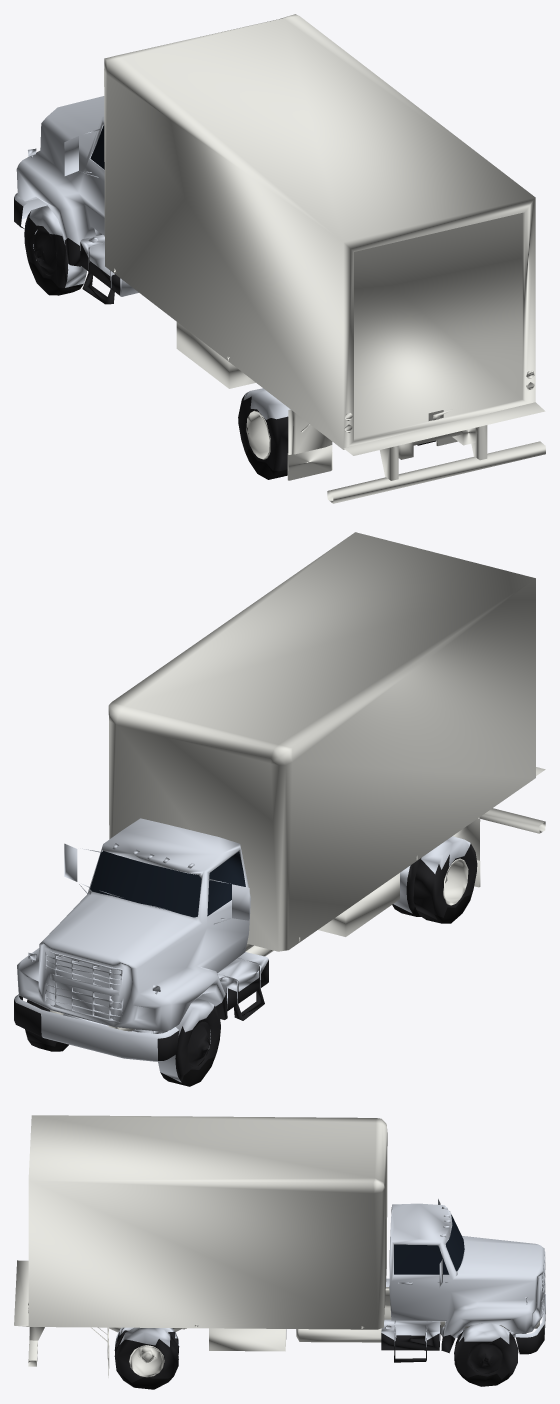
File: truck_box.glb
3 views of the same model, one above another, from view 1: azimuth 30°, elevation 25°; view 2: azimuth 150°, elevation 25°; view 3: azimuth 270°, elevation 25° (orthographic). The views are drawn at different scales.
Visible parts, largest first — view 1: body; view 2: body; view 3: body.
Part boxes in pixels (<box>): body: <box>14,14,545,503</box>; body: <box>14,532,545,1086</box>; body: <box>14,1115,545,1389</box>.
Bounding box in the file's own units: 2.71 × 3.64 × 8.4.
2 materials, 1 textured.
